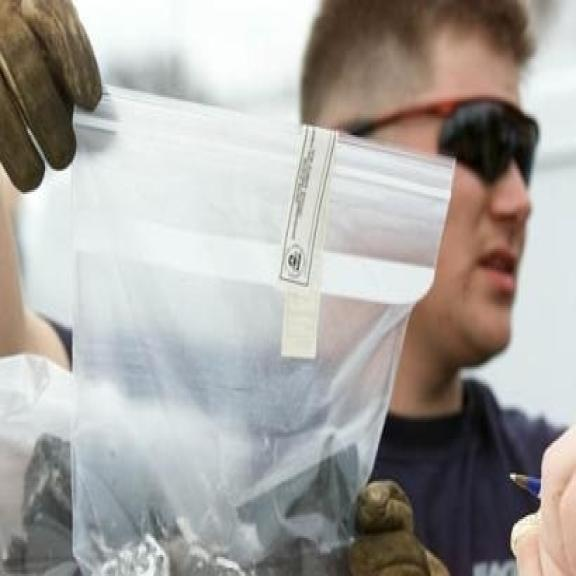face: (302, 0, 540, 372)
